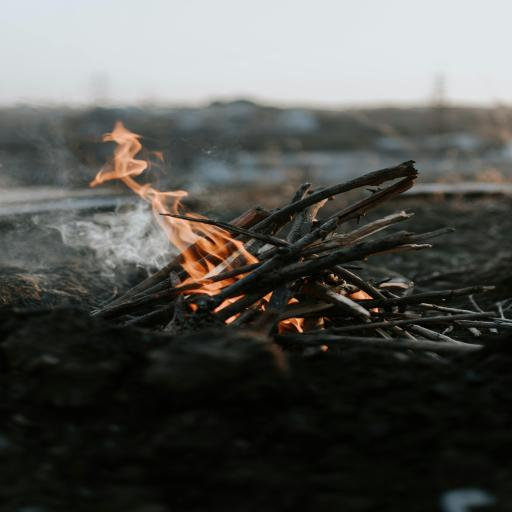campfire: (46, 96, 442, 404)
